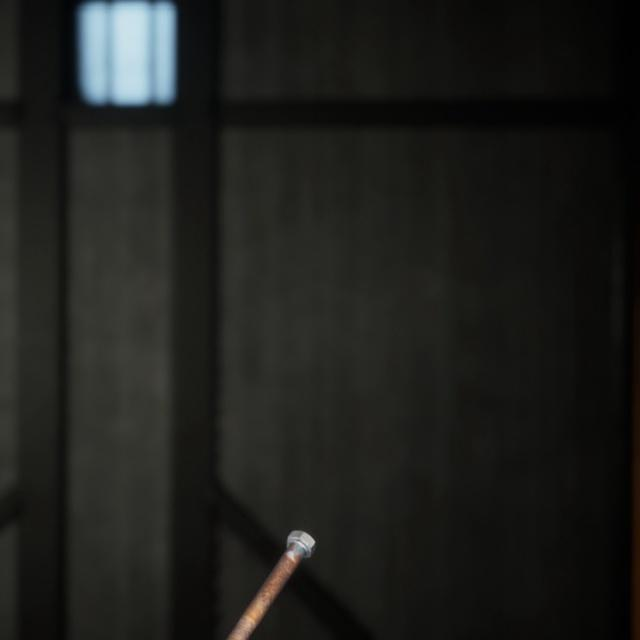bolt: (209, 503, 320, 640)
